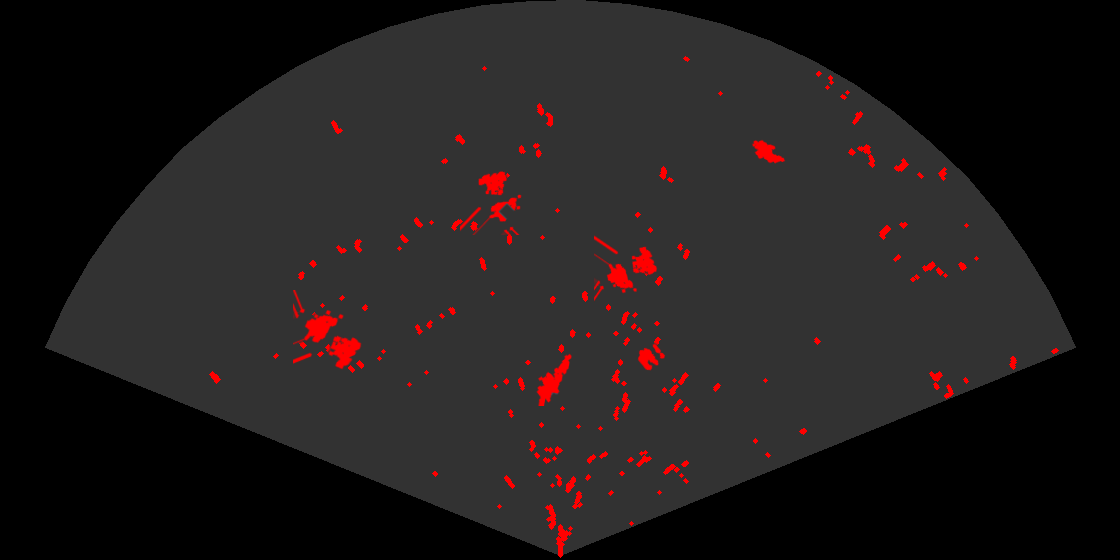AUV: (750, 138, 787, 165)
ball: (636, 342, 667, 372)
cage: (293, 290, 363, 371), (594, 234, 659, 303), (460, 170, 523, 235)
frogman: (535, 352, 573, 406)
